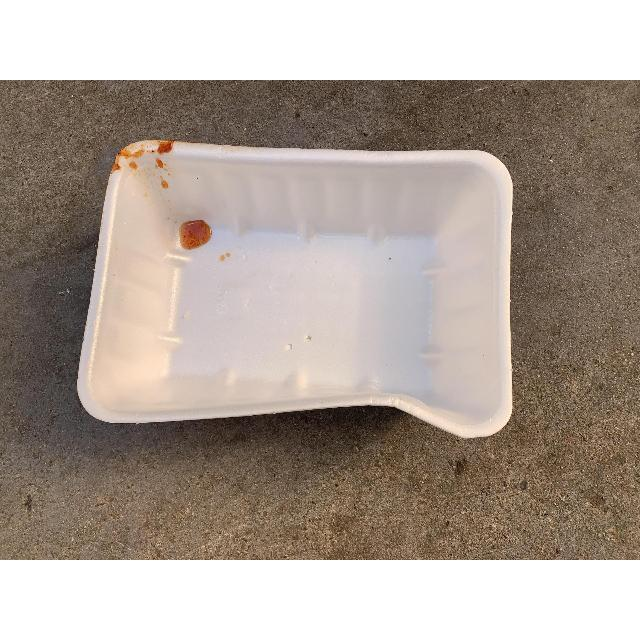Recipiente plastico: (89, 135, 538, 425)
